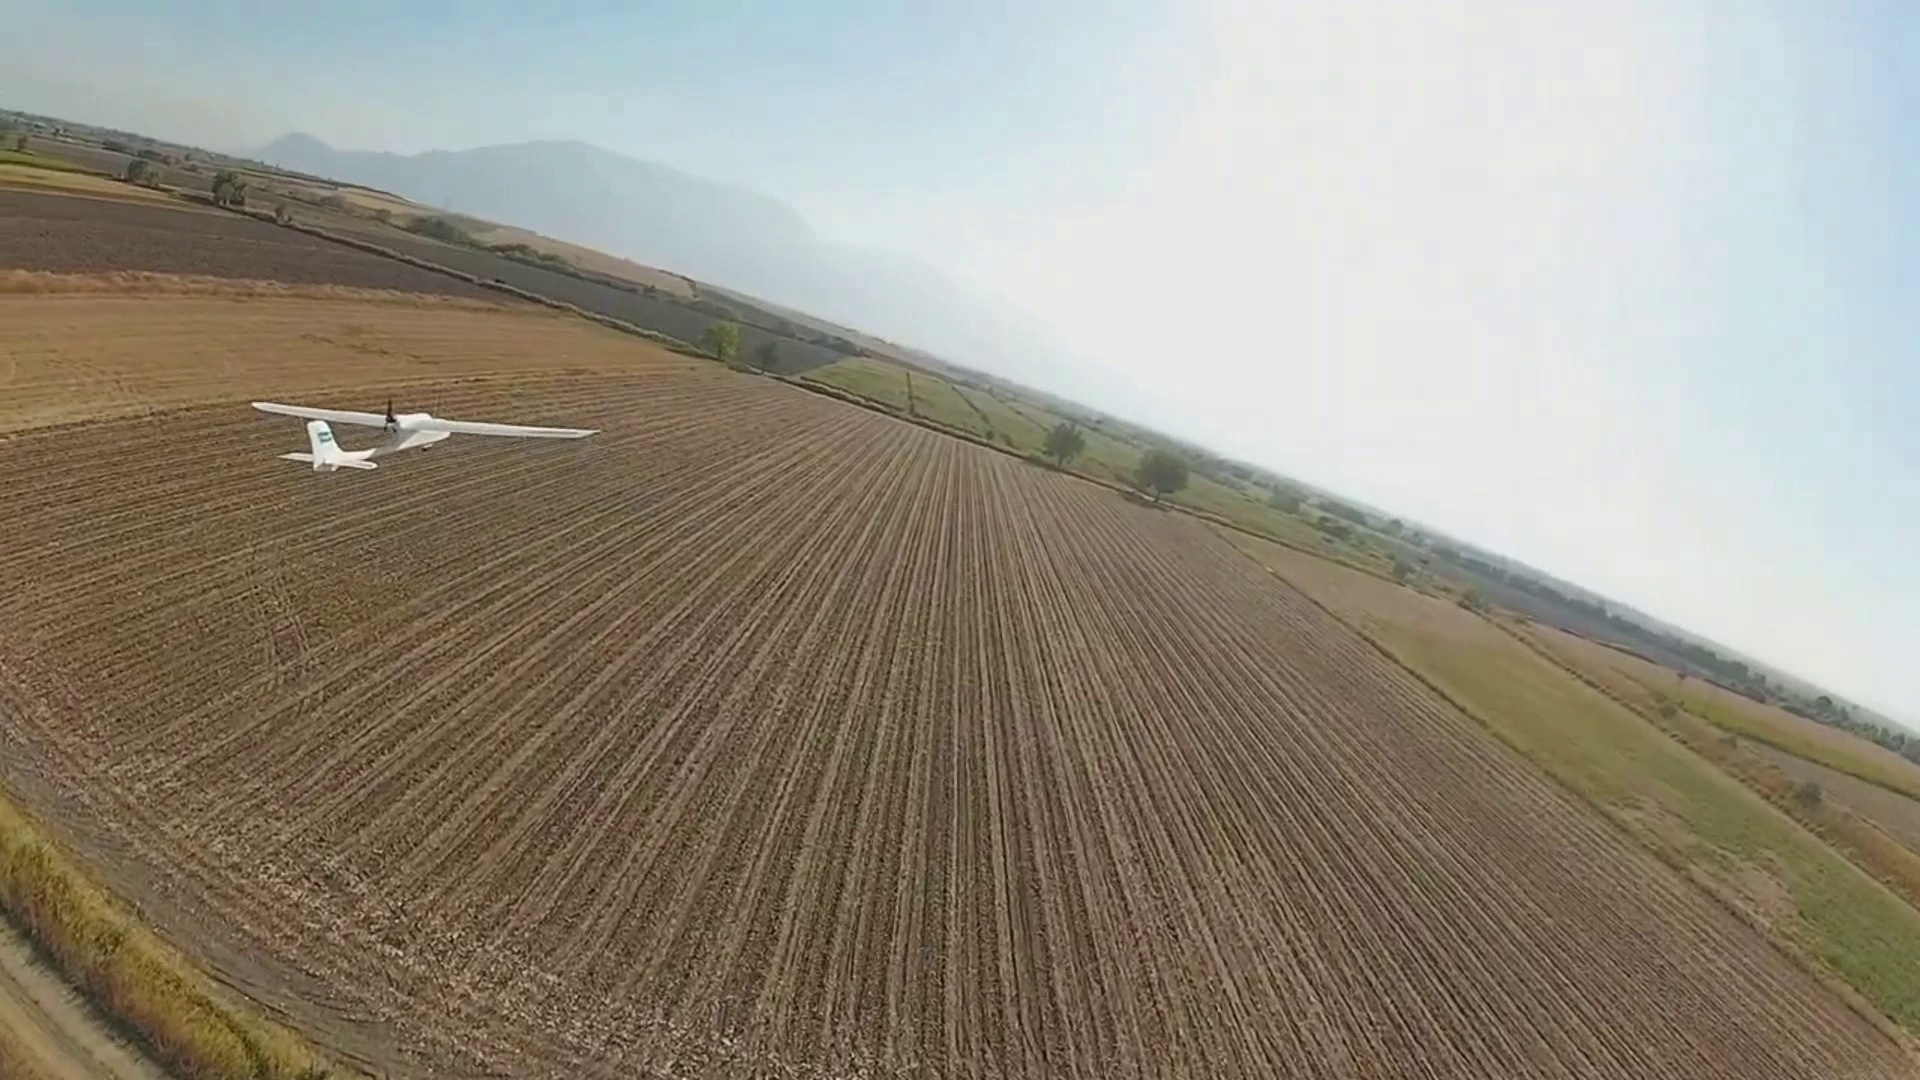airplane: (240, 398, 597, 467), (250, 394, 450, 471)
